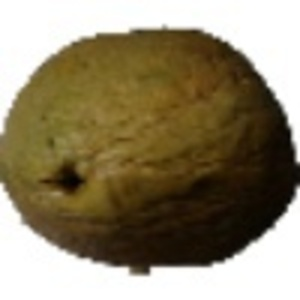mamão: (5, 25, 295, 267)
